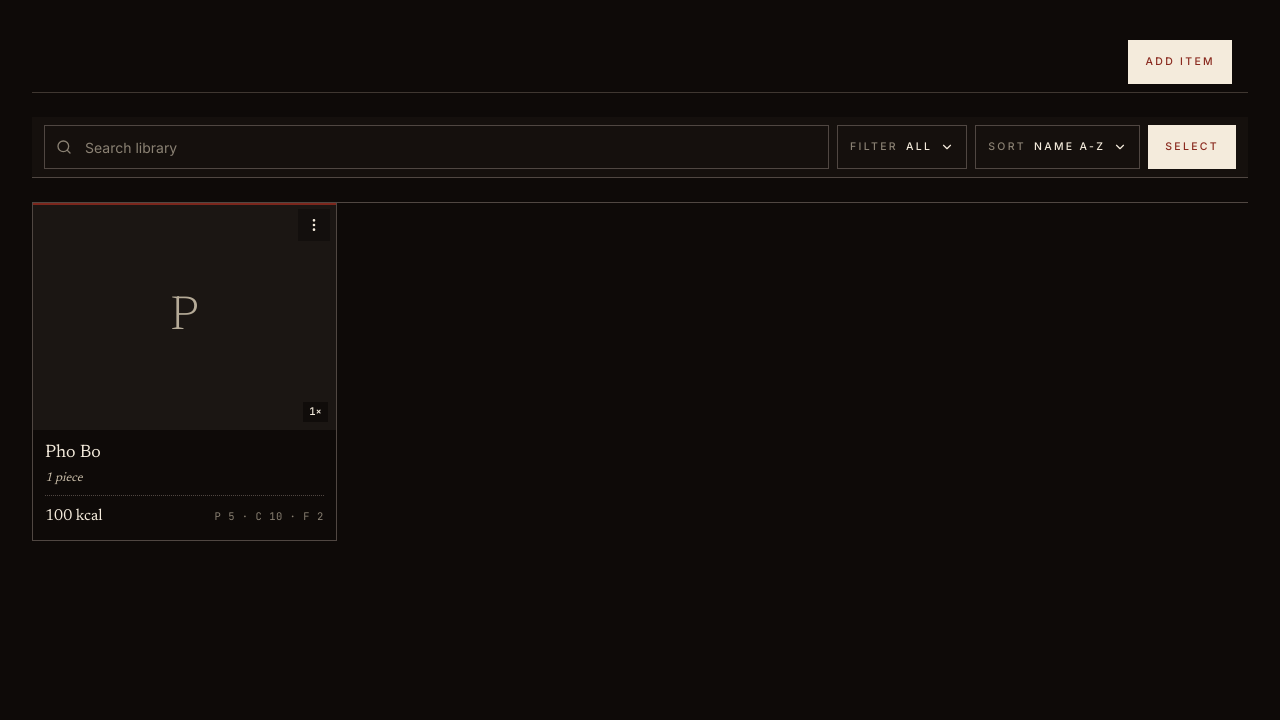
Test: <LibraryClient /> quick-action menu wiring (Bug 3) › quick-log meal dialog exposes busy state while the log request is pending
This screenshot has width=1280, height=720.
Click the button with test id "library-card-menu-trigger-alpha" at (314, 225), box x1=298 y1=209 x2=330 y2=241
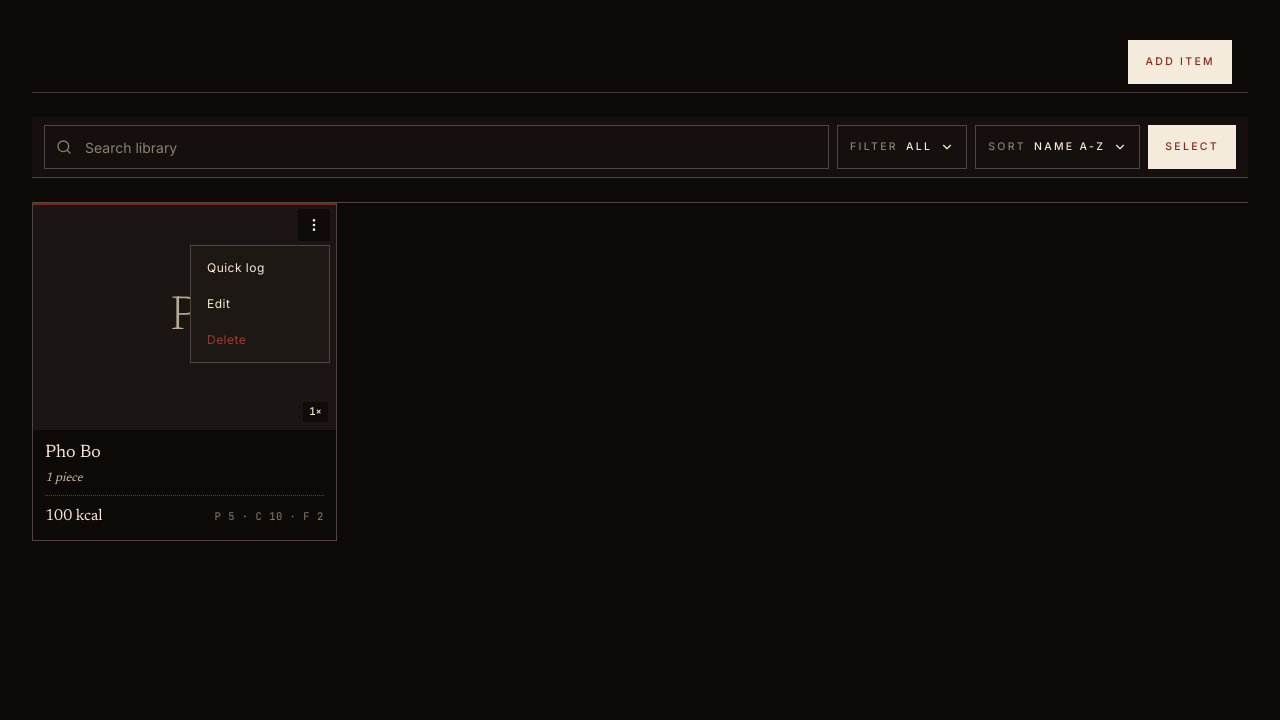
Click the menu item with test id "library-card-menu-quicklog-alpha" at (236, 268), box x1=207 y1=260 x2=265 y2=275
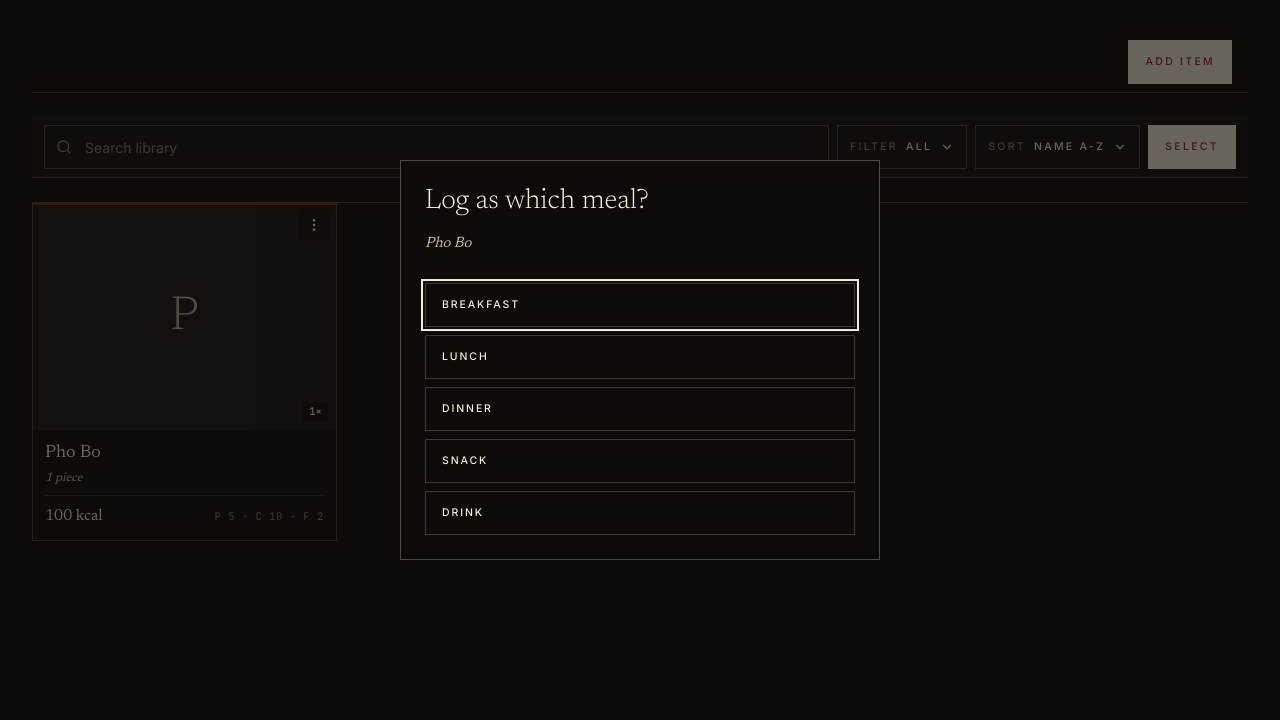
Click the button with test id "library-card-quicklog-meal-snack" at (465, 461), box x1=425 y1=439 x2=855 y2=483
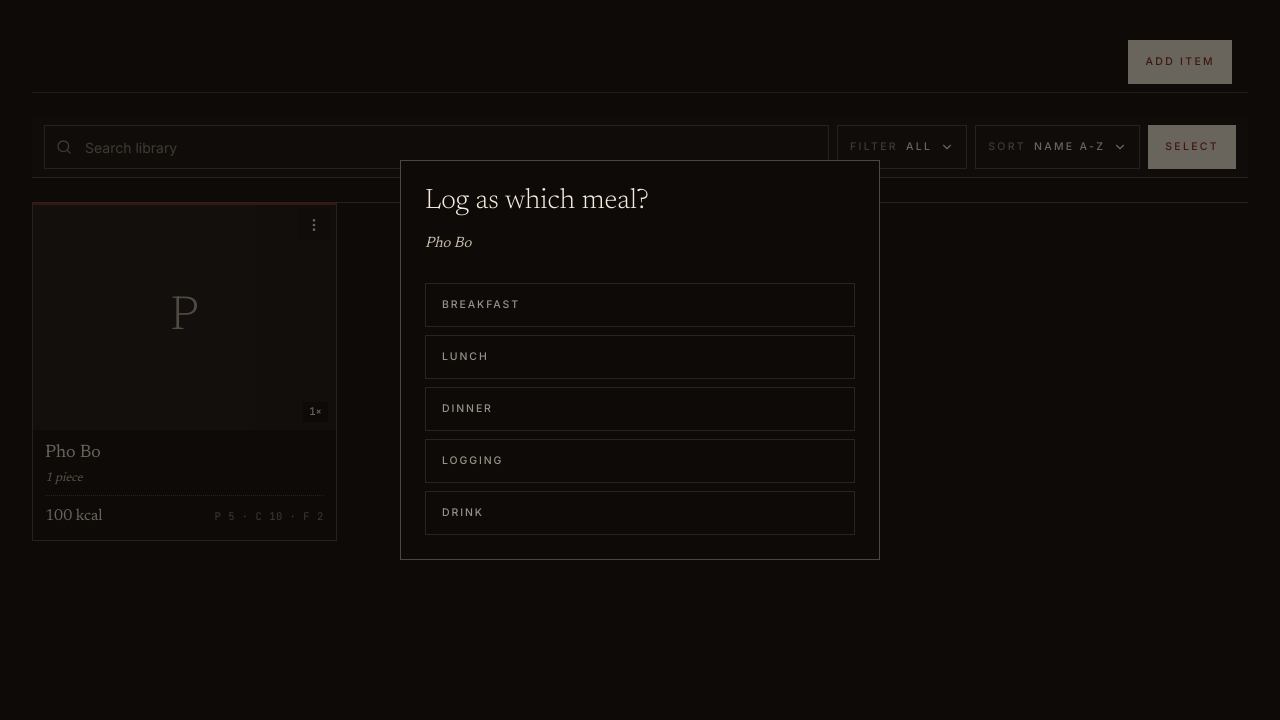
Now the button with test id "library-card-quicklog-meal-snack" reads "LOGGING", box x1=425 y1=439 x2=855 y2=483
Now the button with test id "library-card-quicklog-meal-breakfast" is disabled, box x1=425 y1=283 x2=855 y2=327
